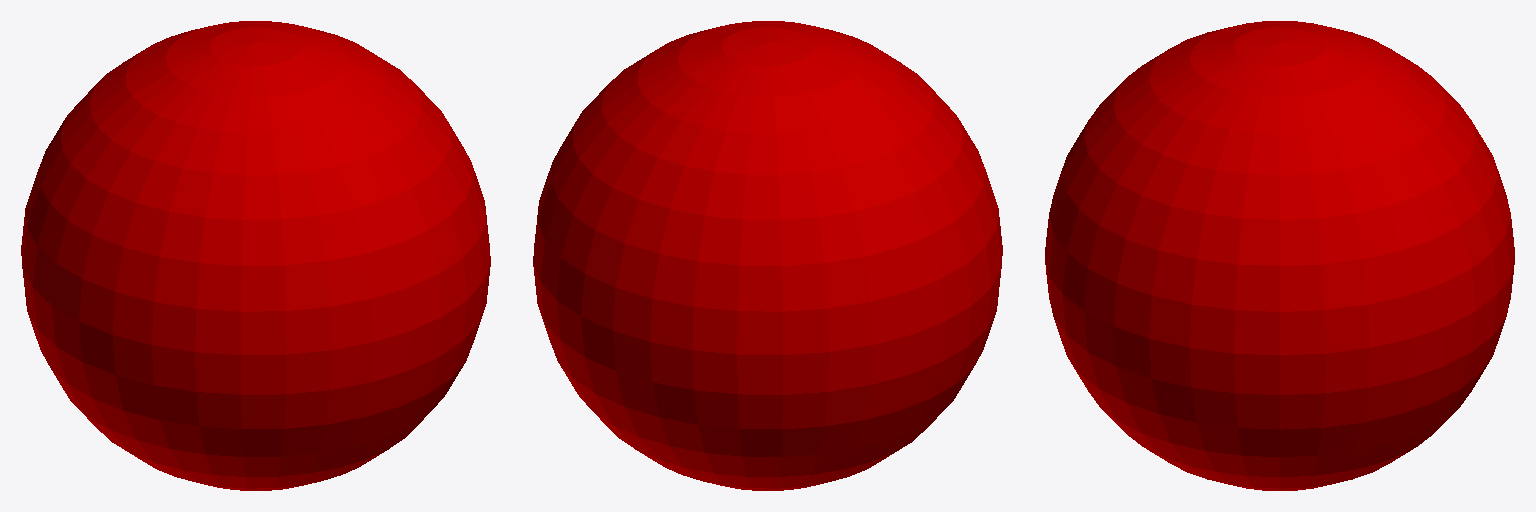
The model's file is bullet.obj.
3 renders of one model, left to right at view 1: azimuth 30°, elevation 25°; view 2: azimuth 150°, elevation 25°; view 3: azimuth 270°, elevation 25°, orthographic.
Visible parts, largest first — view 1: Sphere; view 2: Sphere; view 3: Sphere.
Part boxes in pixels (left/top/right/bottom): Sphere: left=21, top=21, right=490, bottom=490; Sphere: left=533, top=21, right=1002, bottom=490; Sphere: left=1045, top=21, right=1514, bottom=490.
Bounding box in the file's own units: 0.0806 × 0.0806 × 0.0806.